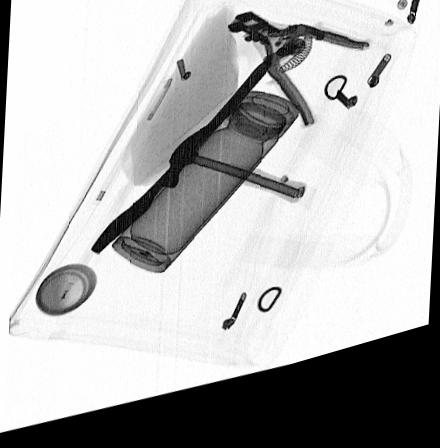Hammer: (156, 139, 306, 224)
Pliers: (225, 20, 374, 150)
Wrench: (82, 73, 276, 262)
